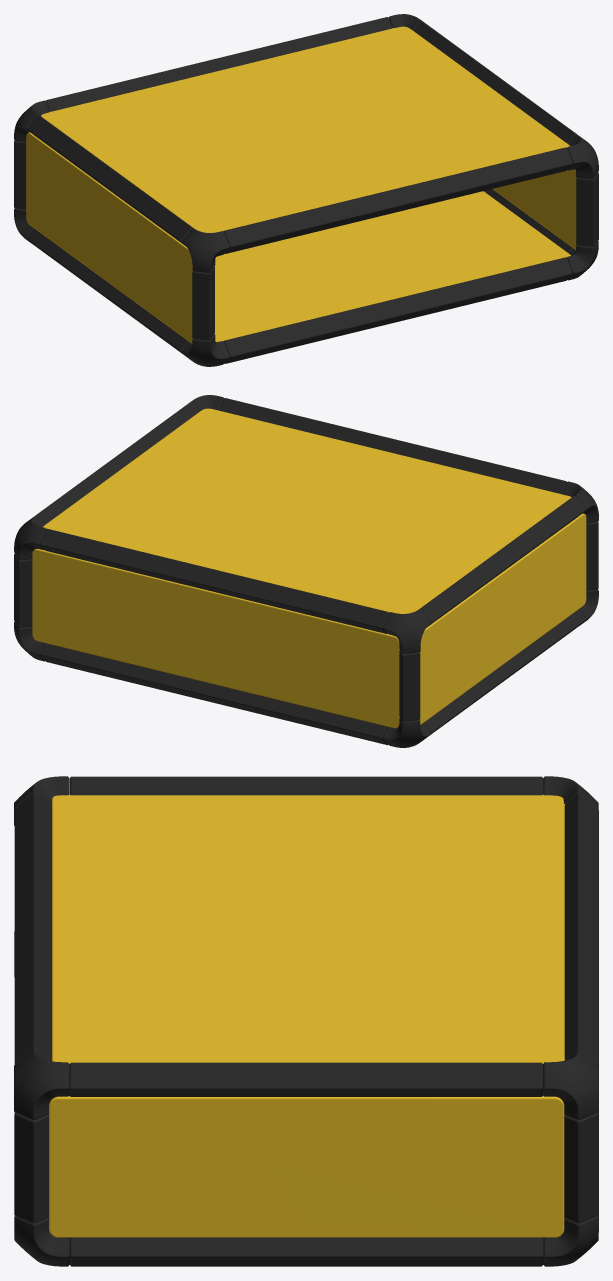
3 views of the same model, one above another, from view 1: azimuth 30°, elevation 25°; view 2: azimuth 150°, elevation 25°; view 3: azimuth 270°, elevation 25° (orthographic). The views are drawn at different scales.
Parts seen in each view (by area): view 1: 420x329x79; view 2: 420x329x79; view 3: 420x329x79.
Boxes of the visible parts, x1,y1,x2,y2 form: 420x329x79: (14, 14, 598, 366); 420x329x79: (14, 395, 598, 747); 420x329x79: (14, 776, 598, 1266).
Size of the model in its own units: 0.4977 by 0.1566 by 0.4063.
